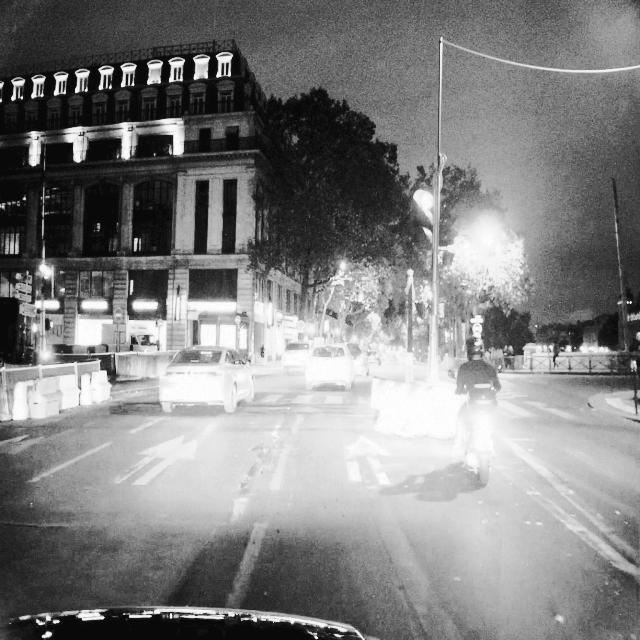Light: (413, 189, 433, 250), (445, 200, 458, 247)
